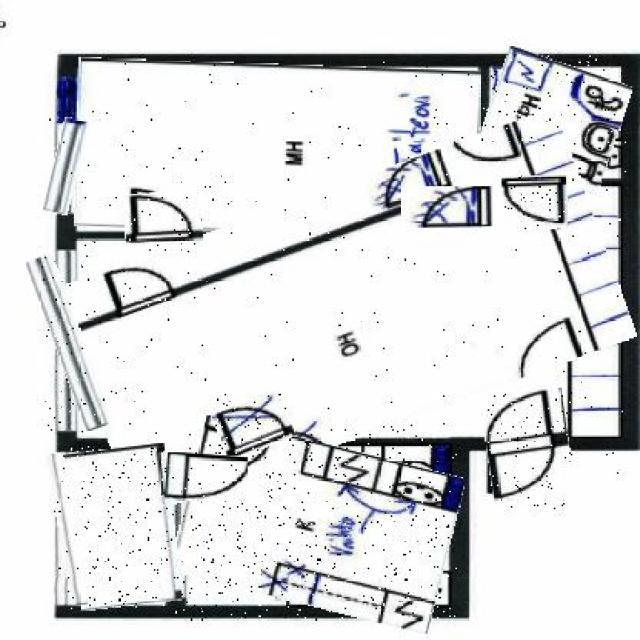door: (485, 389, 572, 509), (215, 392, 292, 456), (126, 191, 203, 254), (166, 454, 248, 503), (400, 188, 494, 228), (503, 177, 568, 229)
window: (41, 252, 97, 432), (54, 452, 81, 606), (49, 117, 85, 215)
zone: (68, 150, 624, 476), (75, 62, 480, 235), (175, 429, 457, 620), (482, 55, 626, 188), (66, 446, 179, 609)
